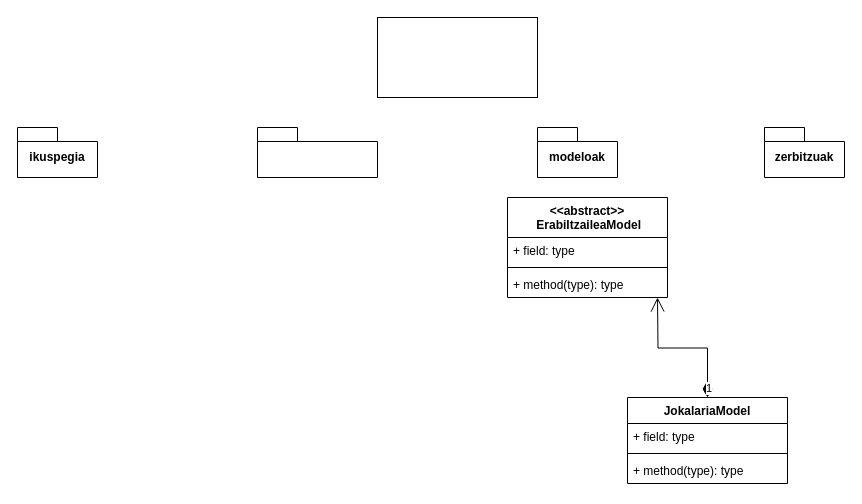
Image size: 862x504. Some labels were removed from this diagram. The shapes that lost their labels are listed below. From the top down, each one's centre as x and y in pixels, then its label:
At point (457, 57): "Erronka2Errekuperazioa".
At point (317, 152): "kontrolatzaileak".
